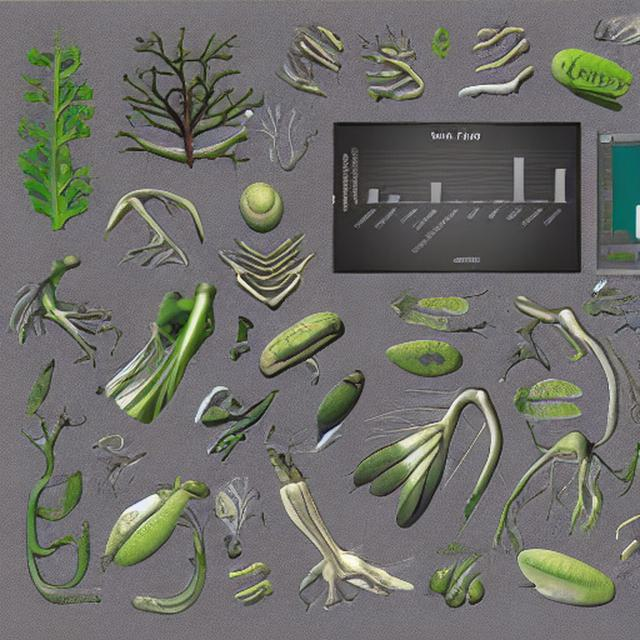Graph: (334, 126, 577, 272)
